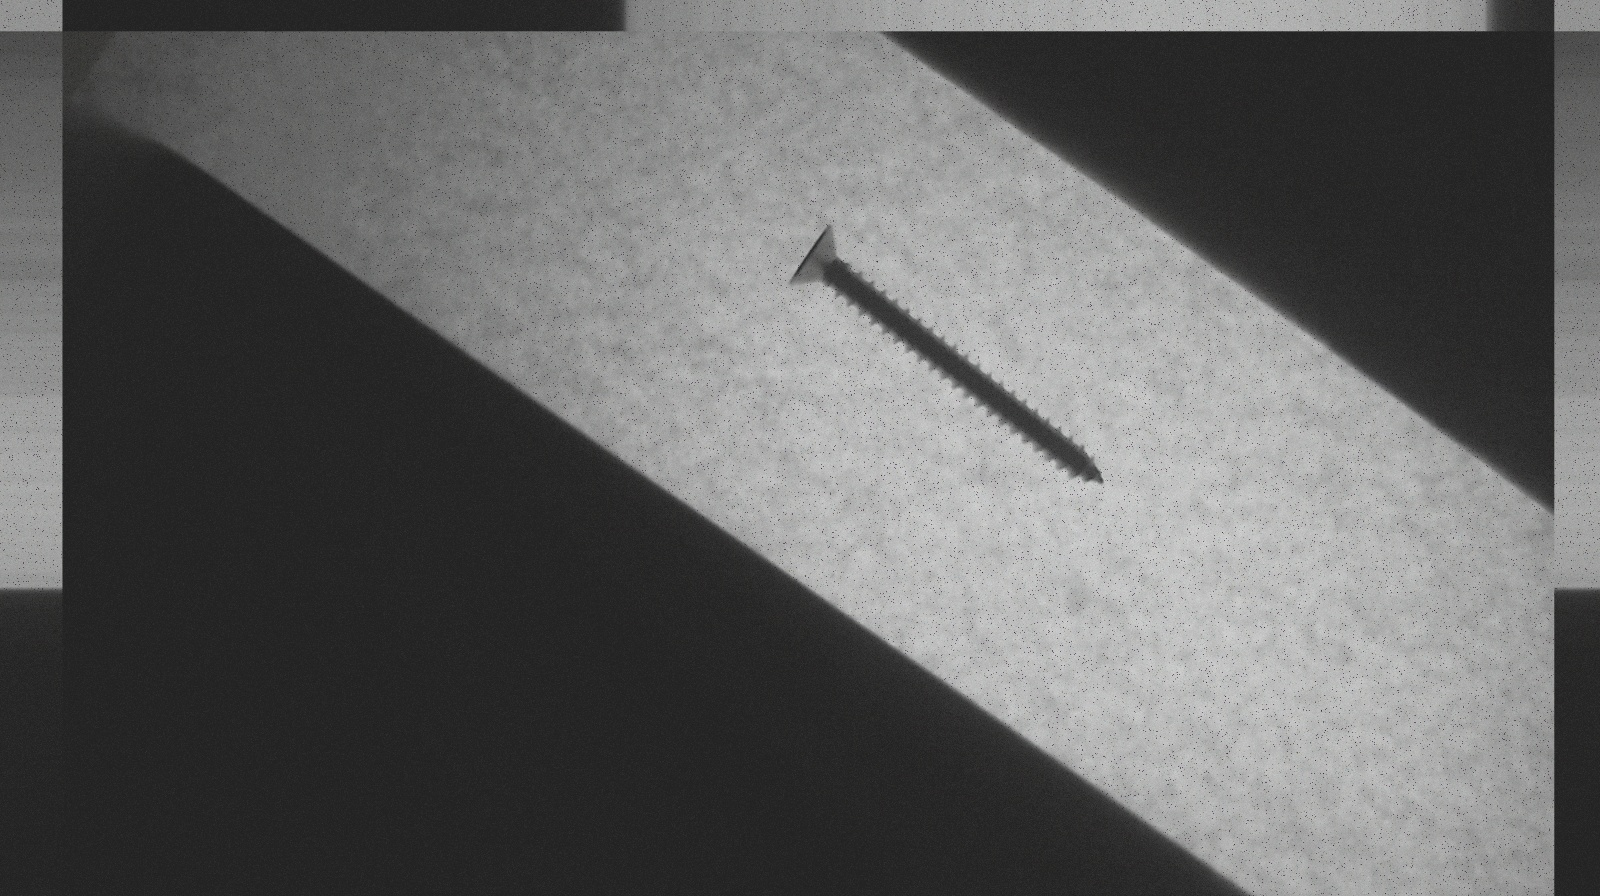S002: (781, 211, 1119, 508)
